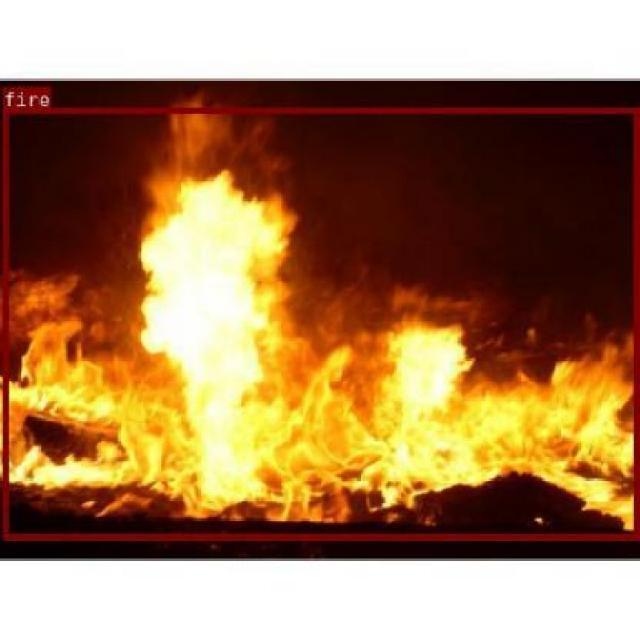Fire: (2, 107, 638, 538)
